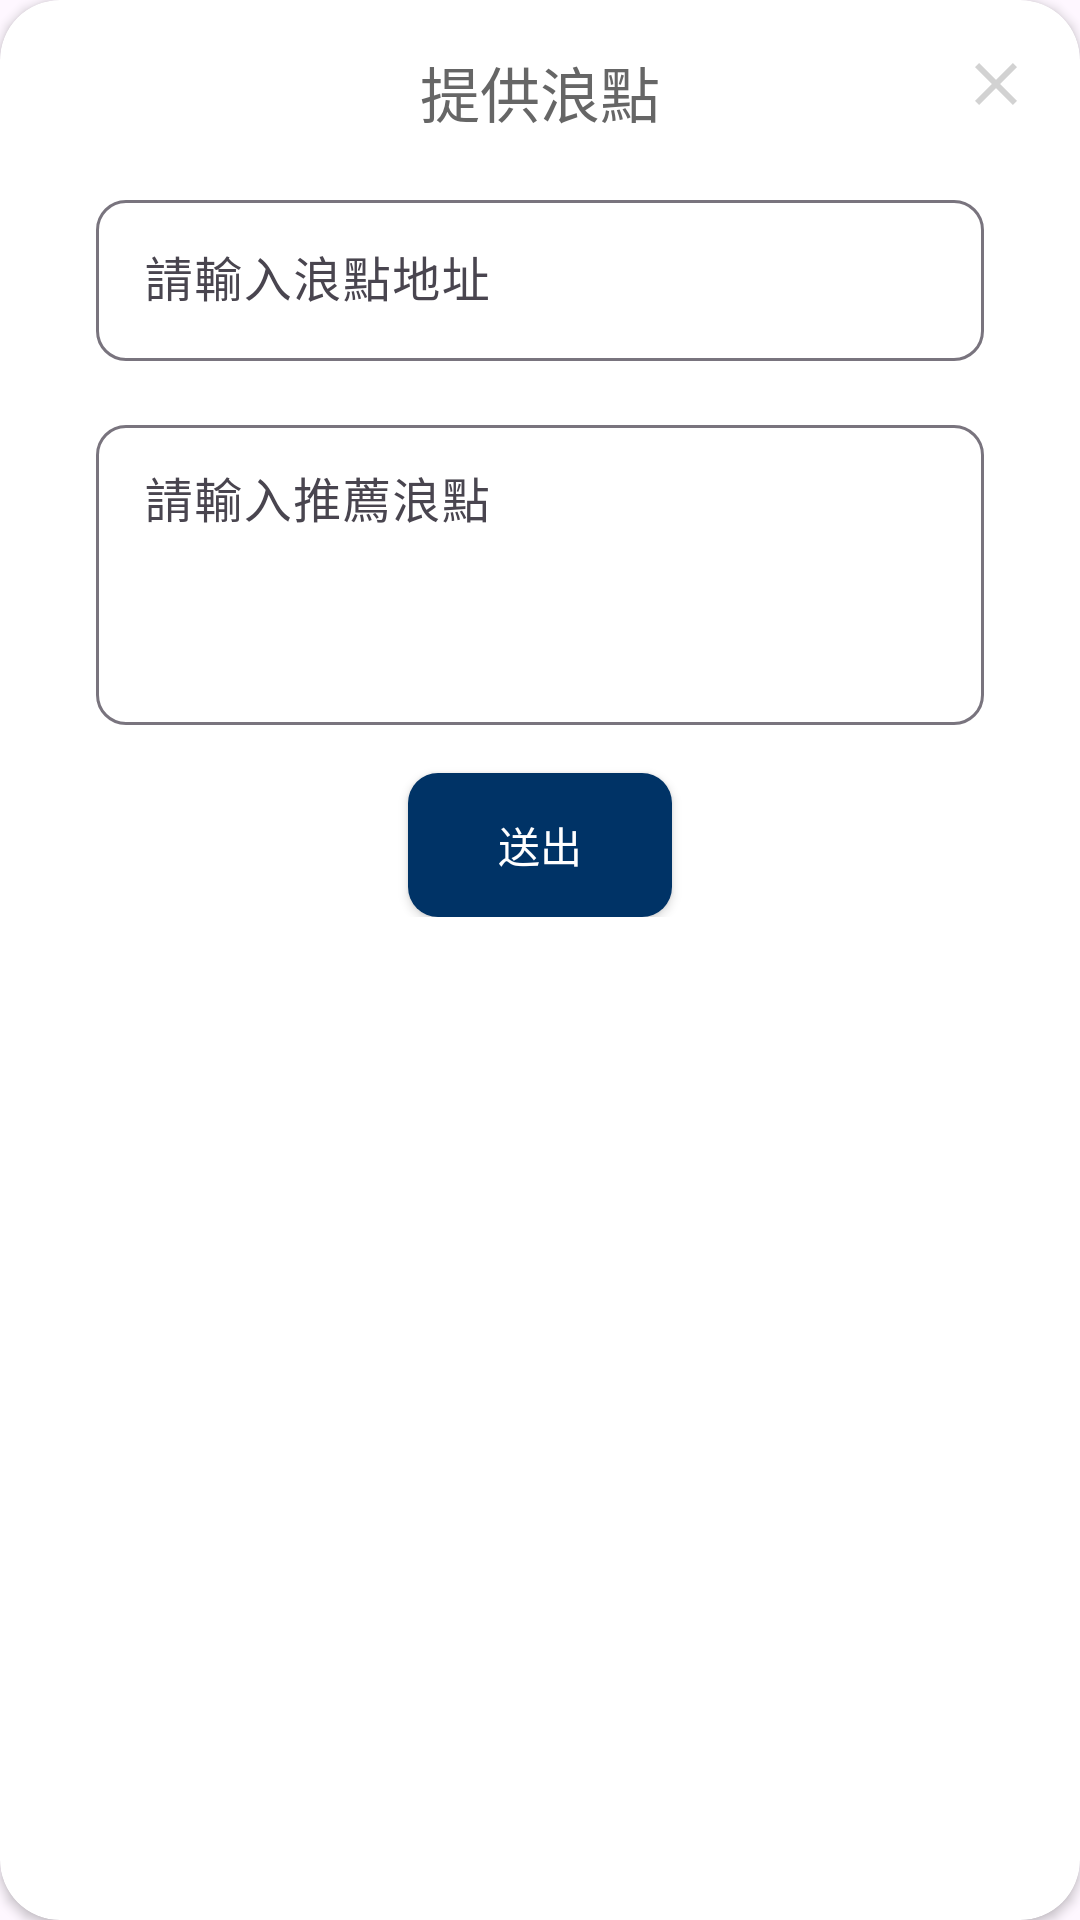

Icon bounding boxes for this 1080×1920 phone screenshot, format [x1=x1, y1=y1, x2=x2, y2=y2]:
close: [x1=975, y1=63, x2=1017, y2=105]
